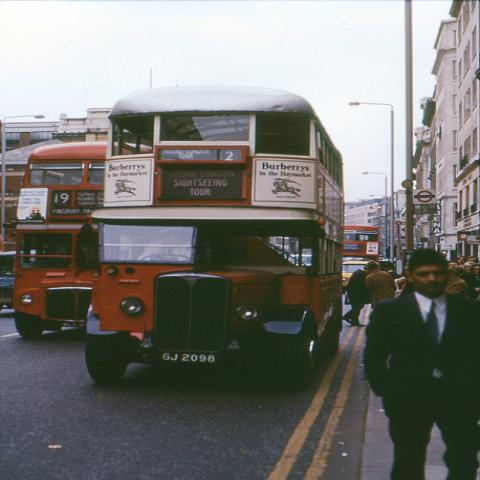bus: (81, 91, 344, 388), (14, 140, 110, 341), (344, 226, 378, 263)
